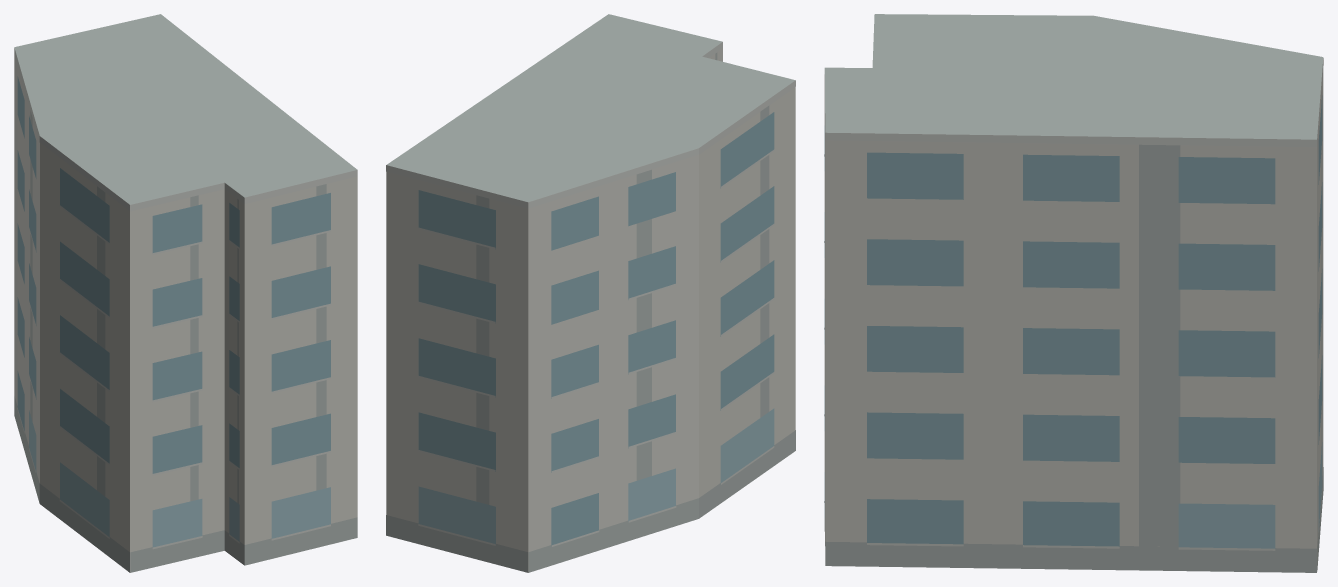
The model's file is survey-upis-32814785.glb.
The picture shows the model from 3 angles, left to right: view 1: azimuth 30°, elevation 25°; view 2: azimuth 150°, elevation 25°; view 3: azimuth 270°, elevation 25°; orthographic projection. The views are drawn at different scales.
Parts seen in each view (by area): view 1: survey-upis-32814785.tmp; view 2: survey-upis-32814785.tmp; view 3: survey-upis-32814785.tmp.
Part boxes in pixels (x1,y1,x2,y2): survey-upis-32814785.tmp: (14, 14, 357, 572); survey-upis-32814785.tmp: (386, 14, 795, 572); survey-upis-32814785.tmp: (824, 14, 1323, 572).
Bounding box in the file's own units: 8.66 × 13.9 × 14.52.
